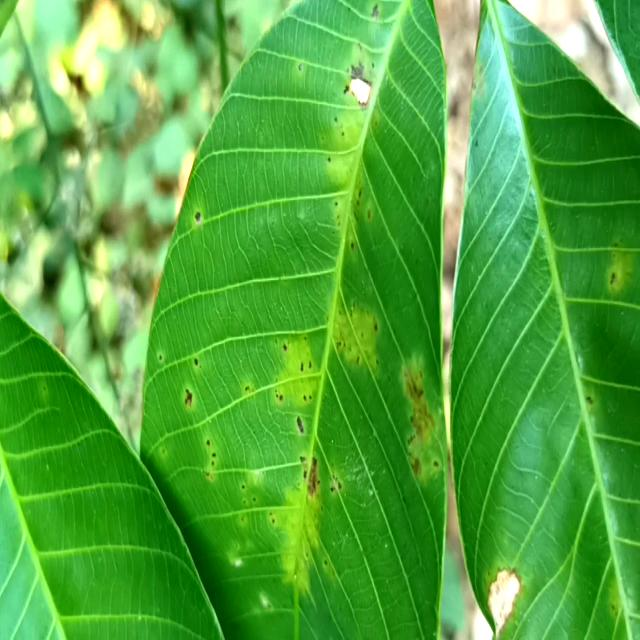Colletotrichum: (195, 211, 201, 223)
Leaf-Blight: (488, 567, 521, 638), (348, 76, 371, 106)
